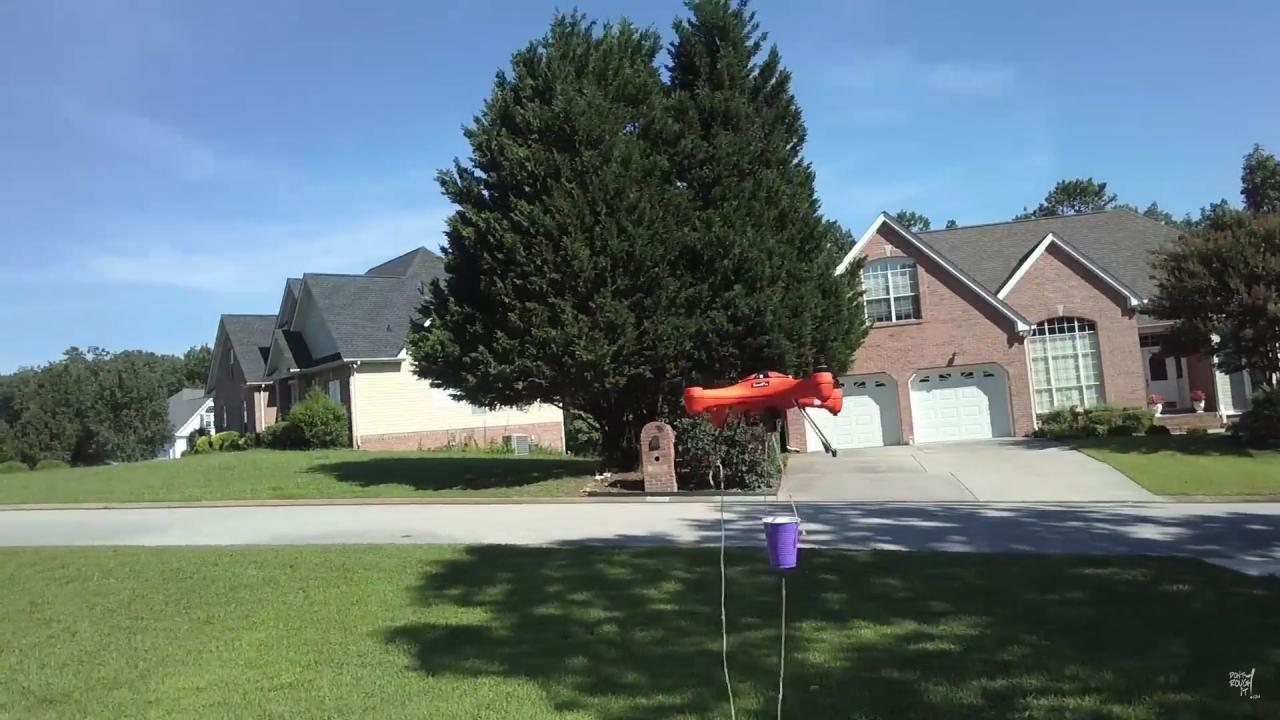Drone: (655, 345, 866, 474)
